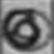correct: (4, 6, 52, 53)
